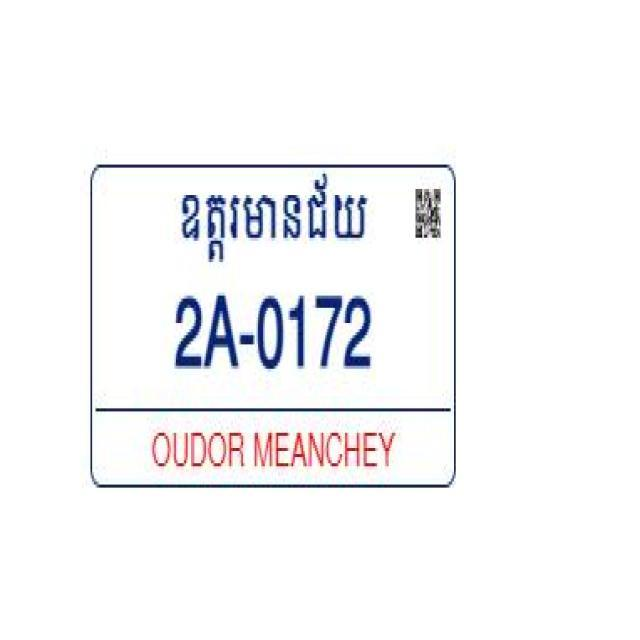Oudor_Meanchey: (176, 171, 367, 263)
